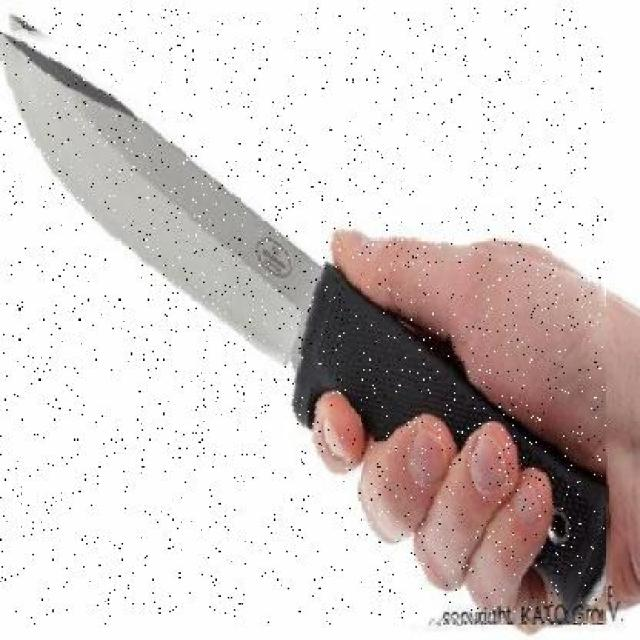knife: (0, 8, 606, 624)
